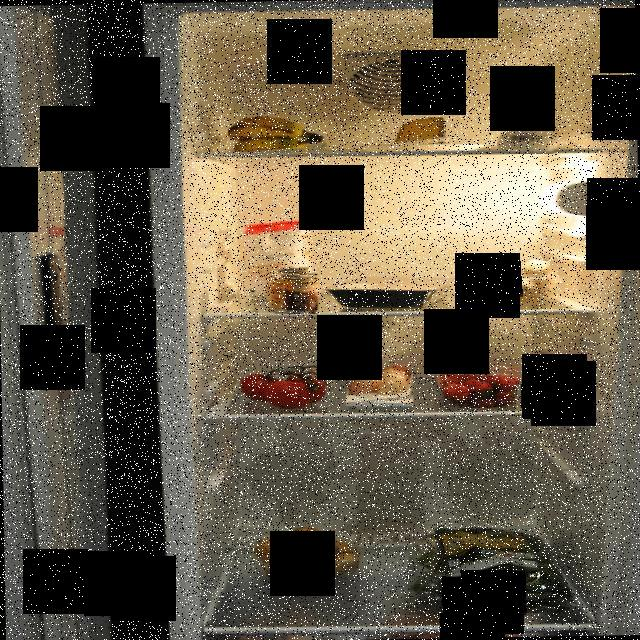banana: (228, 112, 330, 156)
cheese: (391, 118, 449, 148)
corn: (269, 272, 321, 314)
eggs: (346, 364, 418, 406)
flour: (497, 82, 558, 154)
mushrooms: (469, 258, 557, 300)
potato: (250, 524, 360, 576)
spinach: (410, 521, 570, 613)
strawberries: (433, 361, 525, 408)
sugar: (244, 220, 312, 299)
tomato: (240, 364, 336, 409)
